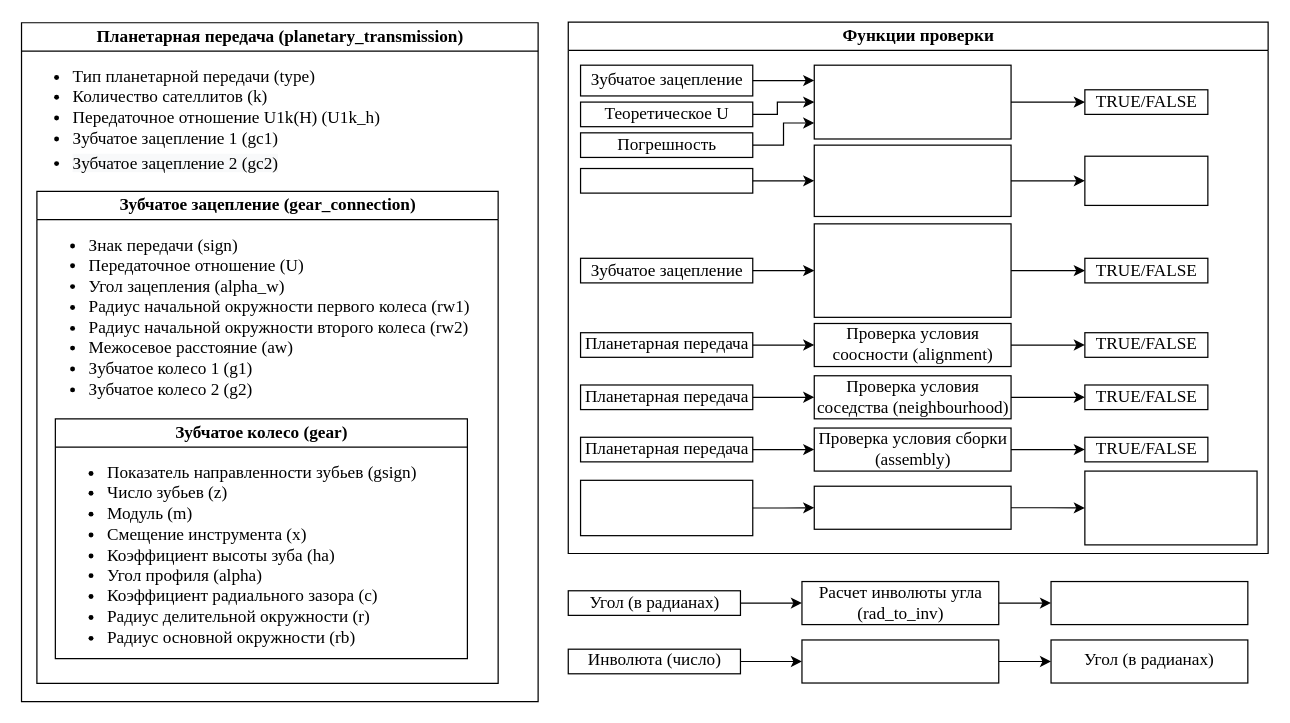
The diagram is 1290 pixels wide and 723 high, and some of its shapes have lost their labels. The centre of each missing label's shape, as x and y in pixels:
"Зубчатое колесо" belongs at (x=666, y=180).
"Массив из планетарных передач" belongs at (x=666, y=507).
"Минимальное число зубьев" belongs at (x=1146, y=180).
"Ответ (число)" belongs at (x=1149, y=602).
"Планетарная передача с минимальными размерами" belongs at (x=1170, y=507).
"Проверка выполнения передаточного отношения (gearratio)" belongs at (x=912, y=101).
"Проверка условия подрезания (pruning_zmin)" belongs at (x=912, y=180).
"Проверка условия правильности внутреннего зацепления (internal_gearing)" belongs at (x=912, y=270).
"Расчет угла инволюты (inv_to_rad)" belongs at (x=900, y=661).
"Условие минимальности размеров(minimal)" belongs at (x=912, y=507).
